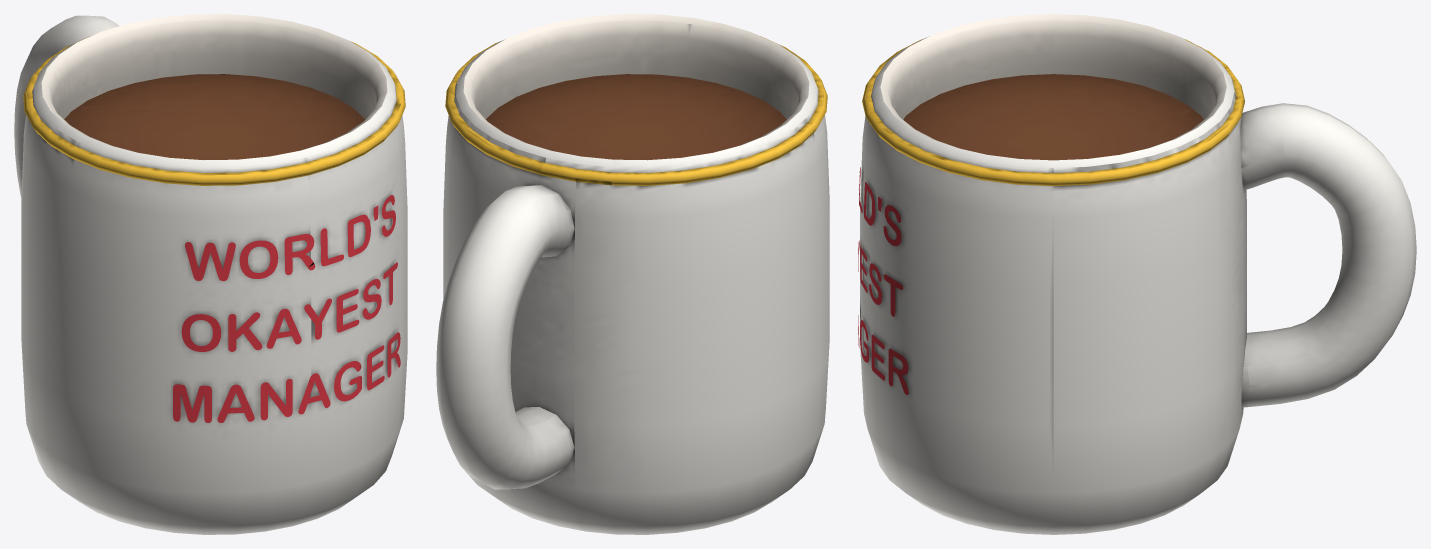
Rendered from held_mug_manager.glb.
3 views of the same model, side by side, from view 1: azimuth 30°, elevation 25°; view 2: azimuth 150°, elevation 25°; view 3: azimuth 270°, elevation 25° (orthographic).
Parts seen in each view (by area): view 1: held_mug_manager; view 2: held_mug_manager; view 3: held_mug_manager.
Part boxes in pixels (bbox=[...]): held_mug_manager: bbox=[14, 14, 407, 534]; held_mug_manager: bbox=[436, 14, 829, 534]; held_mug_manager: bbox=[858, 14, 1416, 534].
Size of the model in its own units: 0.1008 by 0.1113 by 0.1454.
Materials: 5 (5 with a texture image).
